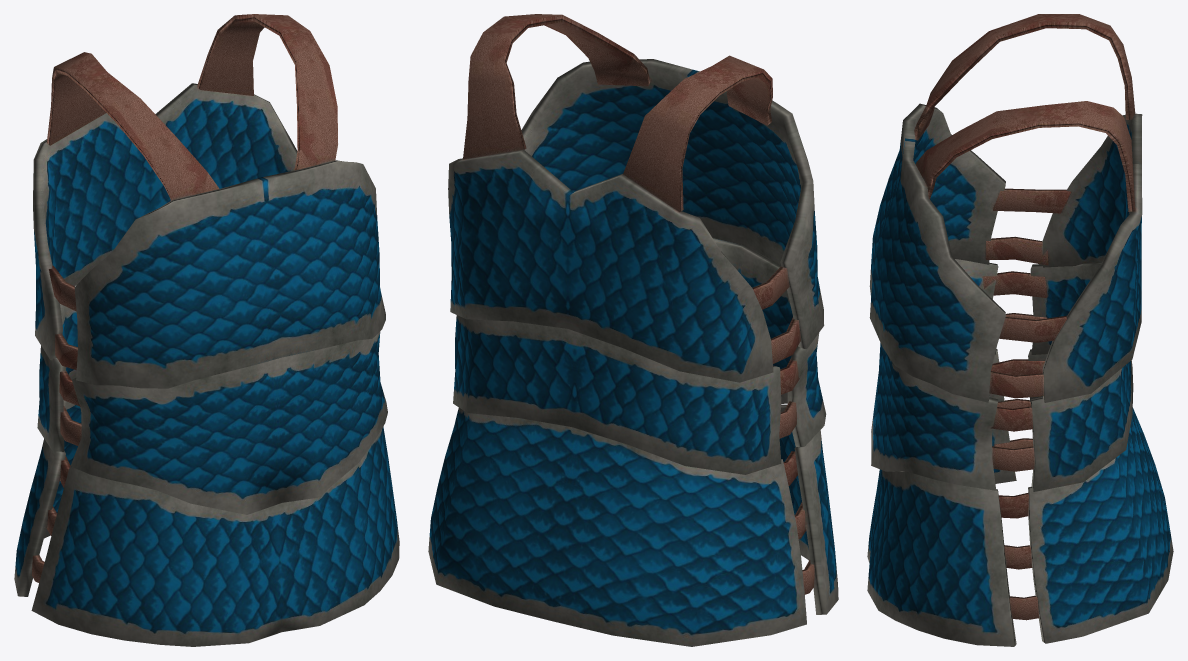
The model's file is dragonskin_armor.glb.
3 views of the same model, side by side, from view 1: azimuth 30°, elevation 25°; view 2: azimuth 150°, elevation 25°; view 3: azimuth 270°, elevation 25° (orthographic). The views are drawn at different scales.
Visible parts, largest first — view 1: dragonscale_export; view 2: dragonscale_export; view 3: dragonscale_export.
Part boxes in pixels (x1=…): dragonscale_export: x1=14, y1=14, x2=399, y2=646; dragonscale_export: x1=428, y1=14, x2=838, y2=646; dragonscale_export: x1=867, y1=14, x2=1173, y2=646.
Bounding box in the file's own units: 0.3004 × 0.4182 × 0.2263.
Materials: 1 (1 with a texture image).
